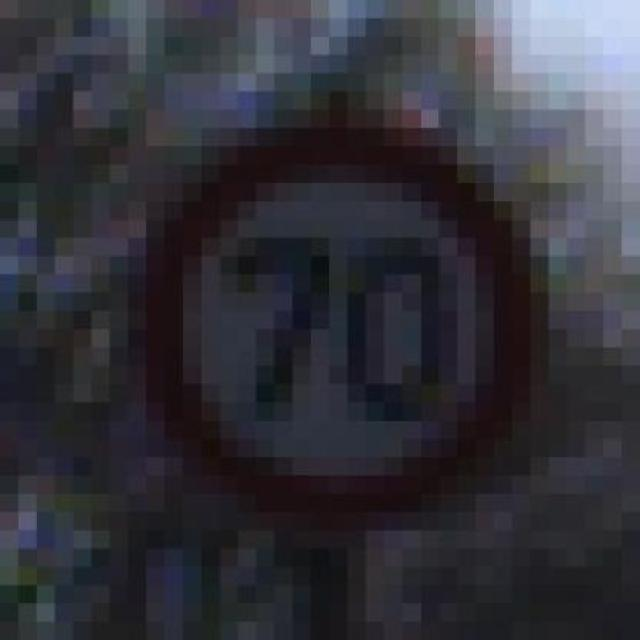forb_speed_over_70: (150, 140, 532, 509)
